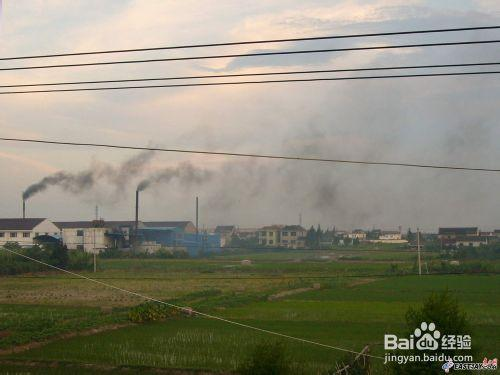dust: (129, 153, 207, 197), (18, 159, 94, 204)
